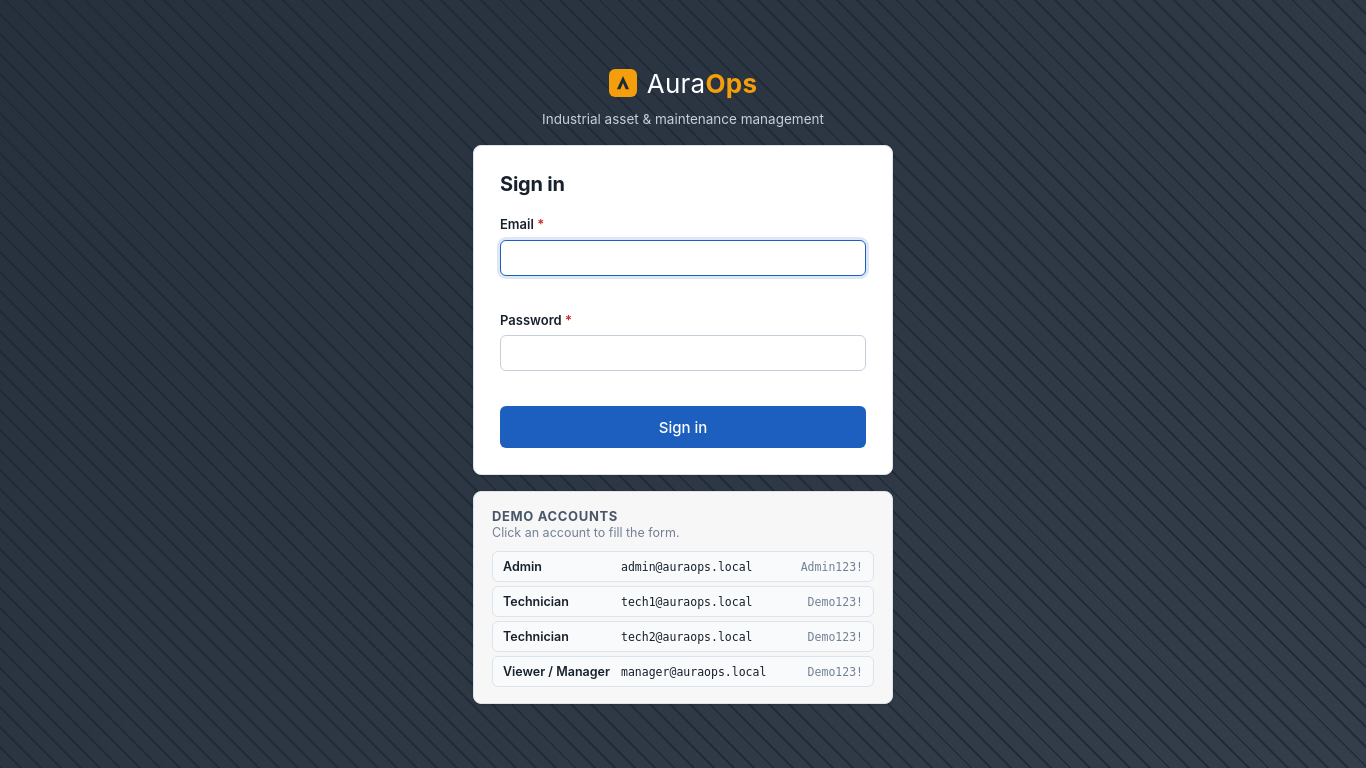
Test: LoginPage › shows the server error message for invalid credentials
Type "admin@auraops.local" into the field labelled "Email *" at (683, 258), box [500,240,866,276]
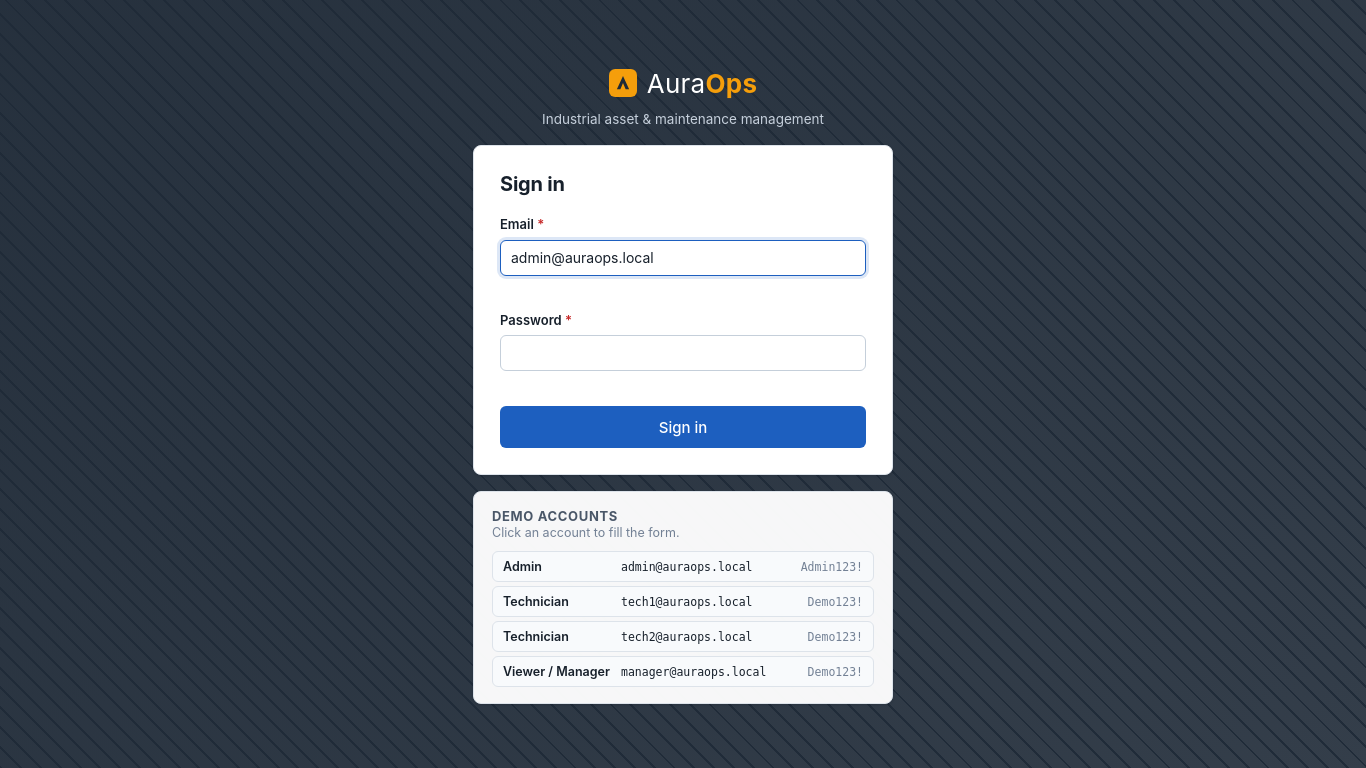
Type "wrong-password" into the password field labelled "Password *" at (683, 353), box [500,335,866,371]
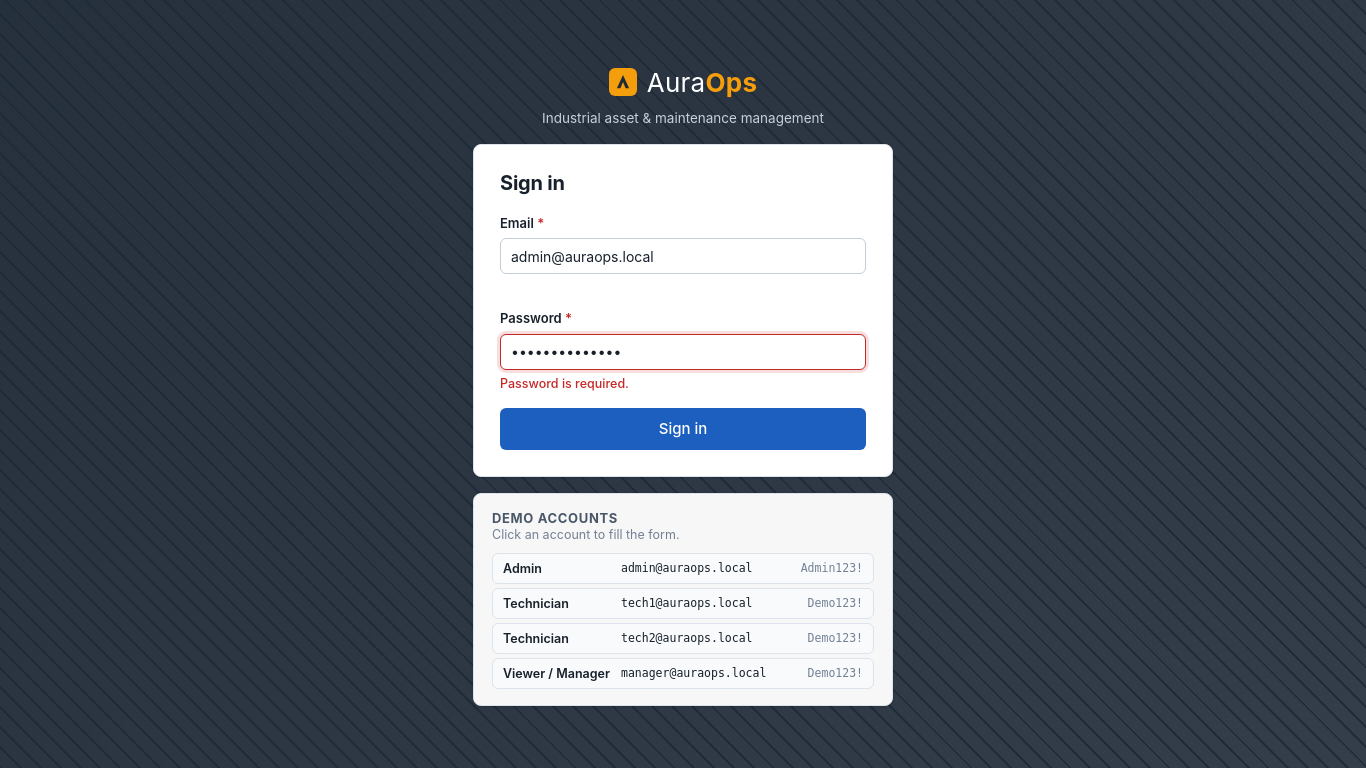
Click the button "Sign in" at (683, 428), box [500,408,866,450]
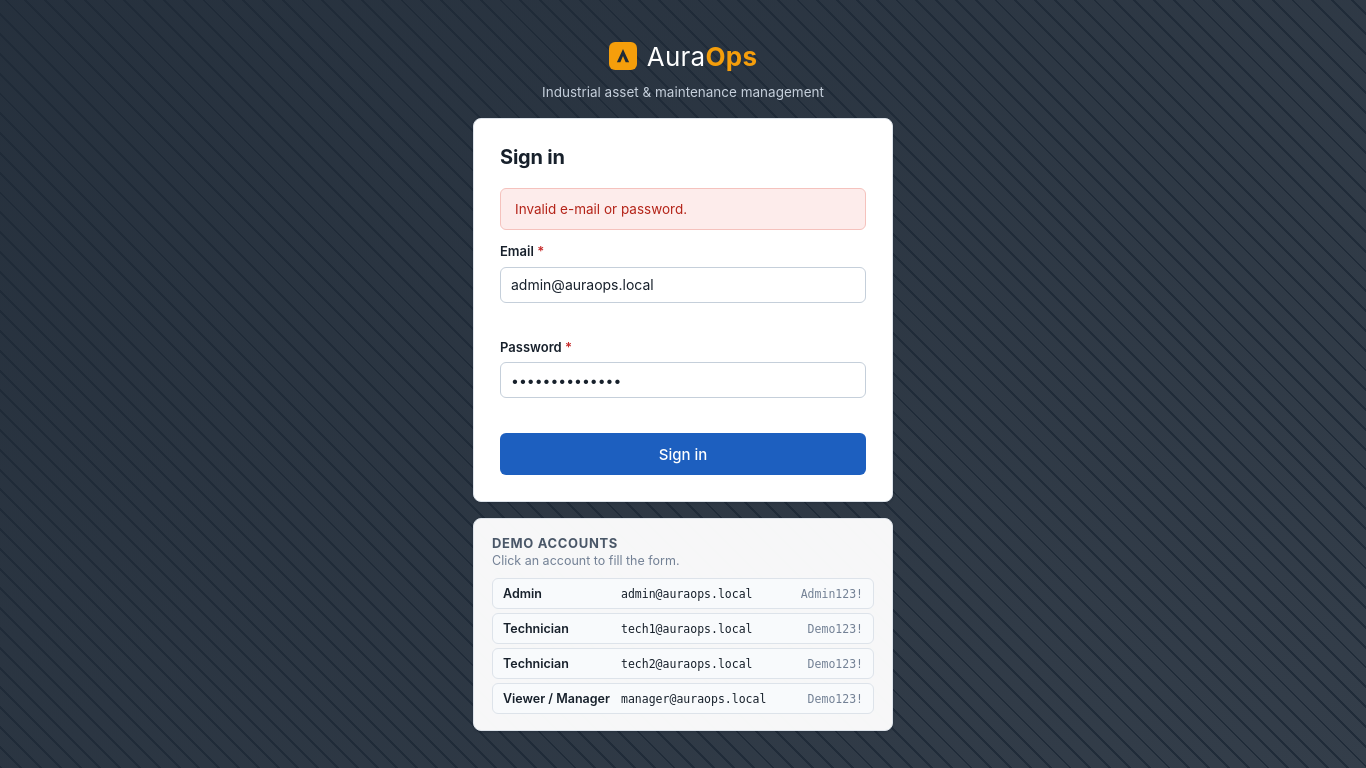
Result: the text "Invalid e-mail or password." is shown at [500,188,866,230]
